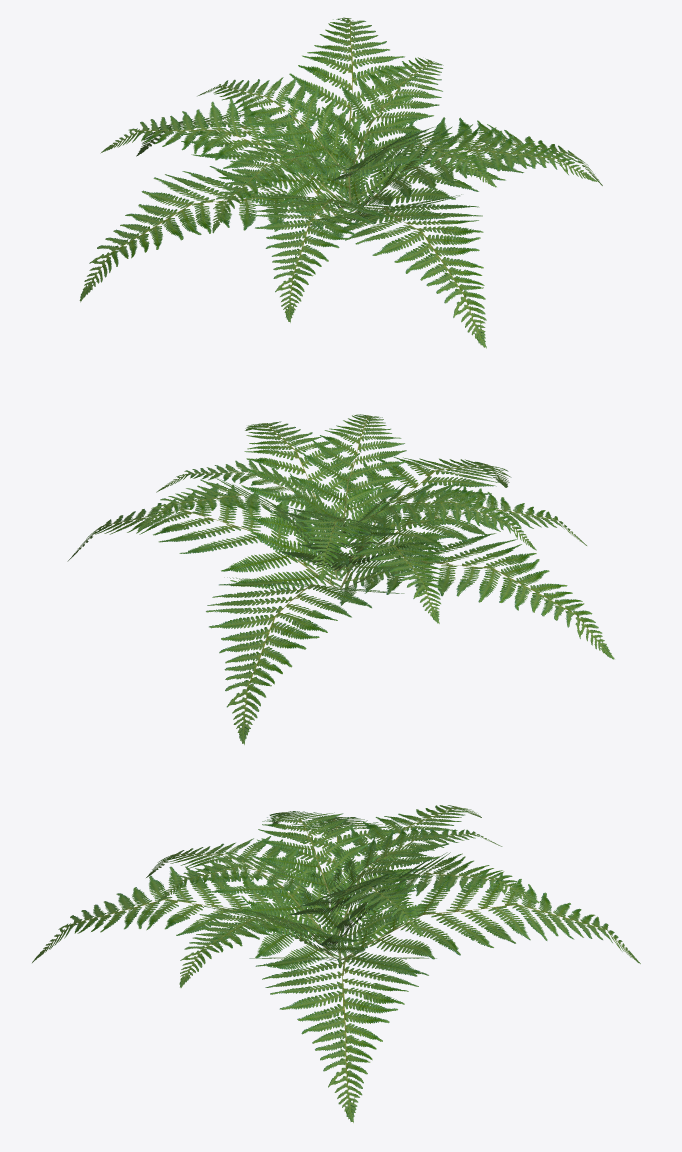
File: prop_arbusto_001.FBX
3 views of the same model, one above another, from view 1: azimuth 30°, elevation 25°; view 2: azimuth 150°, elevation 25°; view 3: azimuth 270°, elevation 25° (orthographic).
Parts seen in each view (by area): view 1: Plane012; view 2: Plane012; view 3: Plane012.
Boxes of the visible parts, left/top/right/bottom form: Plane012: left=79, top=17, right=602, bottom=348; Plane012: left=67, top=414, right=614, bottom=744; Plane012: left=32, top=805, right=640, bottom=1122.
Bounding box in the file's own units: 15.43 × 4.68 × 15.88.
Materials: 1 (1 with a texture image).
